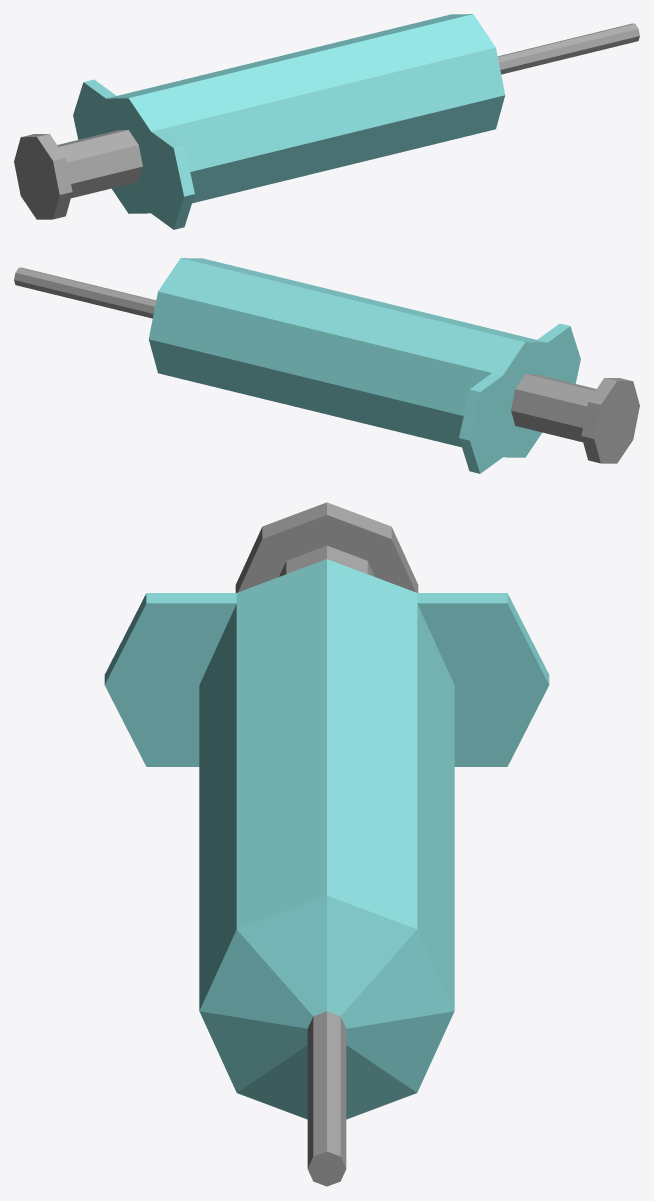
The model's file is syringe-mesh.fbx.
3 views of the same model, one above another, from view 1: azimuth 30°, elevation 25°; view 2: azimuth 150°, elevation 25°; view 3: azimuth 270°, elevation 25° (orthographic). The views are drawn at different scales.
Parts seen in each view (by area): view 1: pCylinder1; view 2: pCylinder1; view 3: pCylinder1.
Part boxes in pixels (x1=…): pCylinder1: x1=14, y1=14, x2=639, y2=229; pCylinder1: x1=14, y1=258, x2=639, y2=473; pCylinder1: x1=104, y1=502, x2=549, y2=1186.
Size of the model in its own units: 10.83 by 2 by 3.48.
